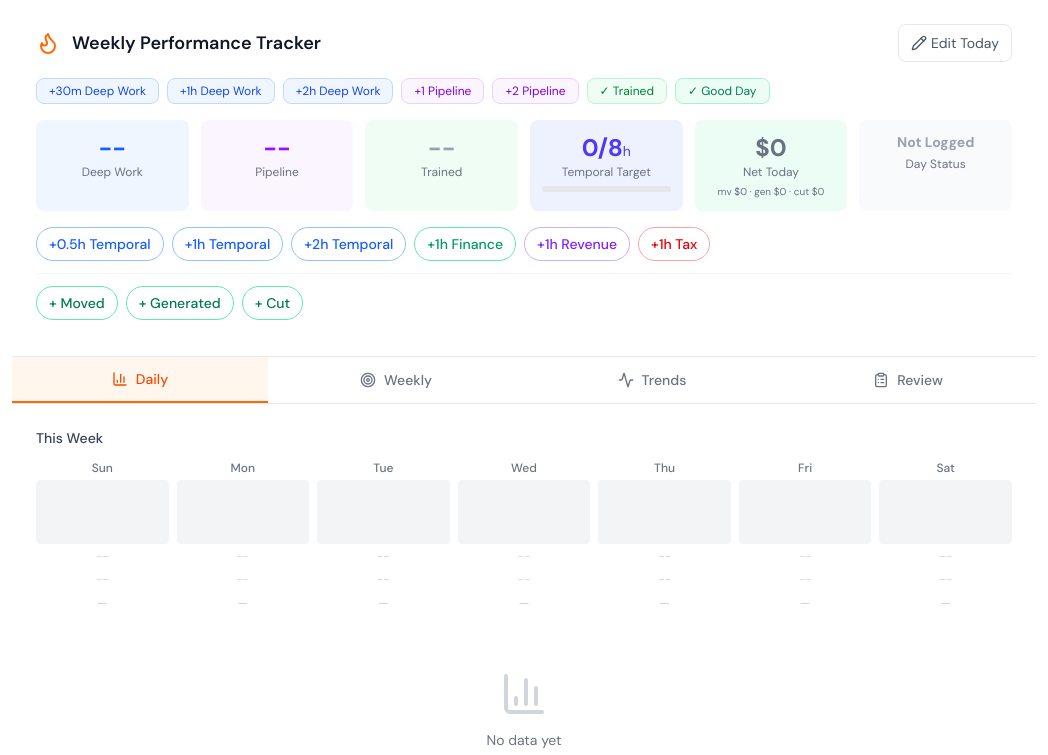
Scenario: WeeklyPerformanceTracker - Inline Temporal Target Edit › enters edit mode when clicking the Temporal Target card
Click the button with aria-label "Edit Temporal Target": {"x": 606, "y": 162} x1=542 y1=132 x2=671 y2=192
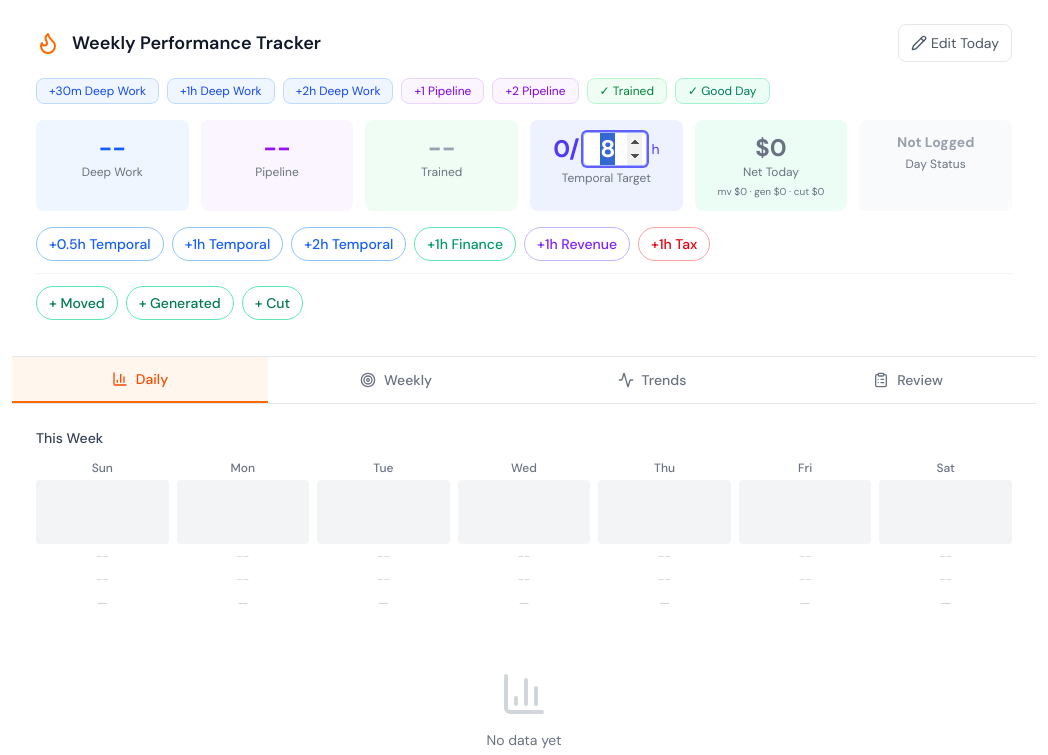
Expected: the number field named "Temporal Target" holds "8", x1=583 y1=132 x2=647 y2=166
